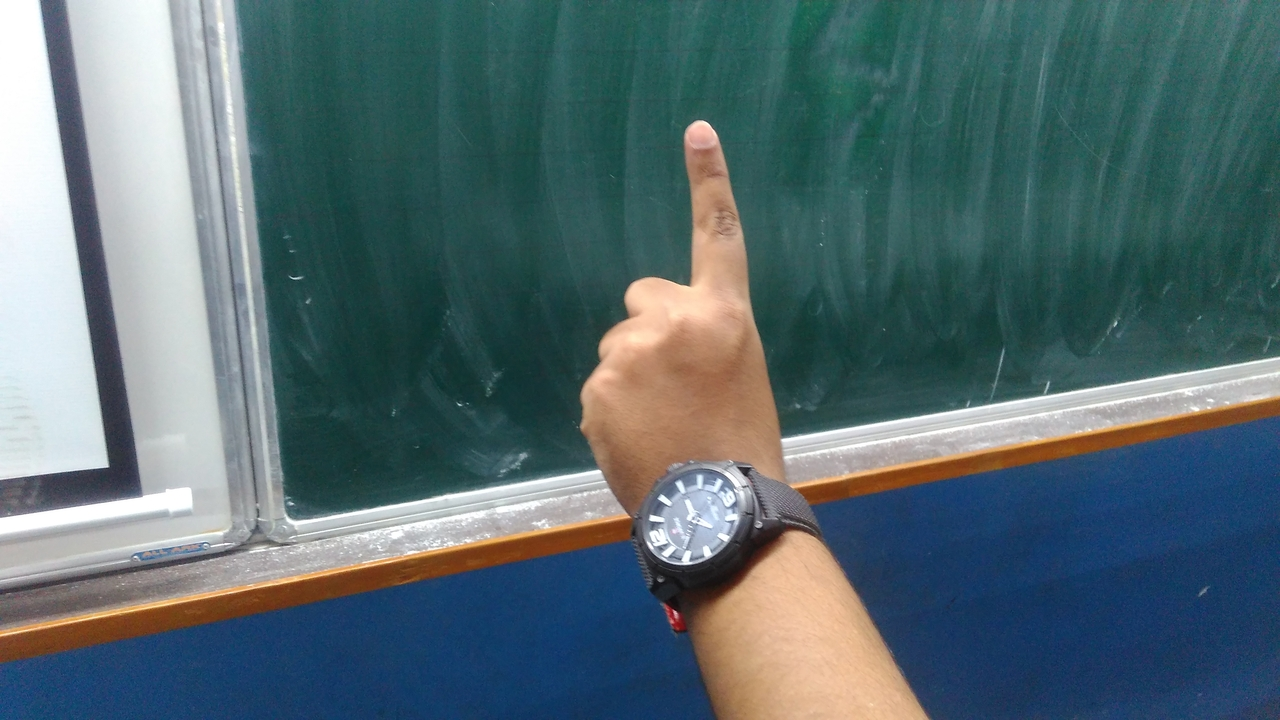fingertip: (676, 114, 728, 158)
